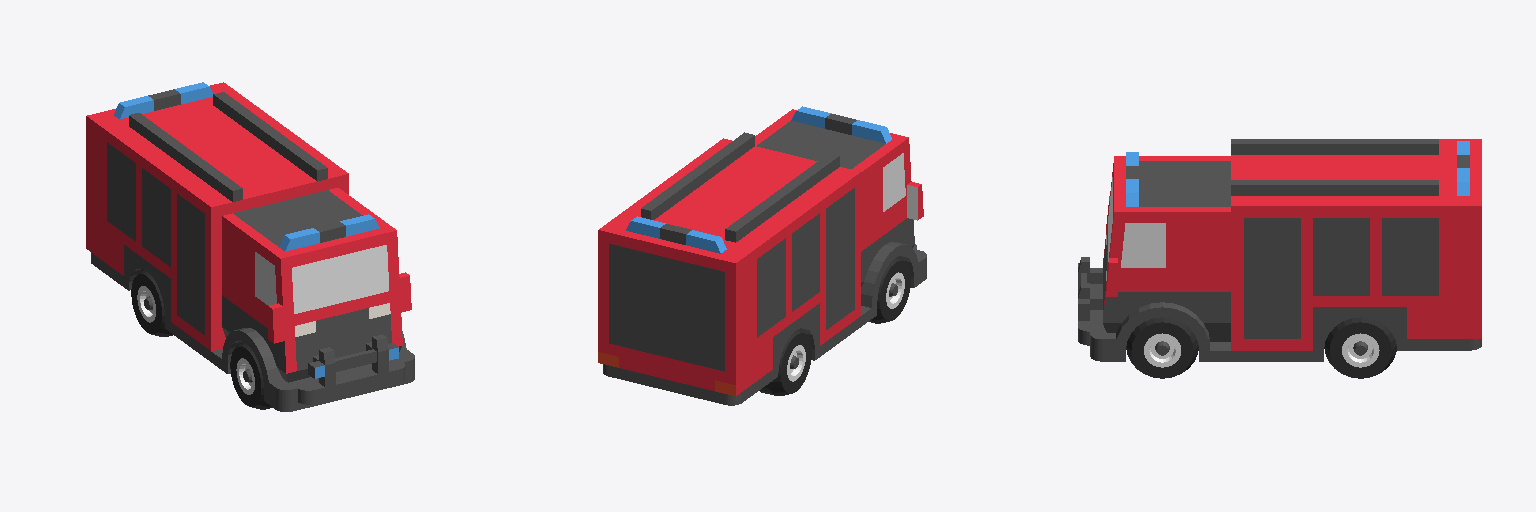
Rendered from firetruck.obj.
3 renders of one model, left to right at view 1: azimuth 30°, elevation 25°; view 2: azimuth 150°, elevation 25°; view 3: azimuth 270°, elevation 25°, orthographic.
Parts seen in each view (by area): view 1: body, grill, wheel_frontRight, wheel_backRight; view 2: body, wheel_backRight, wheel_frontRight; view 3: body, wheel_backLeft, wheel_frontLeft, grill.
Boxes of the visible parts, <box> form: body: <box>86,82,414,411</box>; grill: <box>298,334,404,404</box>; wheel_frontRight: <box>230,342,272,409</box>; wheel_backRight: <box>131,269,172,336</box>; body: <box>598,106,926,405</box>; wheel_backRight: <box>759,329,811,395</box>; wheel_frontRight: <box>869,256,910,323</box>; body: <box>1090,139,1481,361</box>; wheel_backLeft: <box>1324,317,1396,378</box>; wheel_frontLeft: <box>1126,317,1198,378</box>; grill: <box>1078,257,1102,345</box>.
Size of the model in its own units: 51.18 by 66.93 by 130.